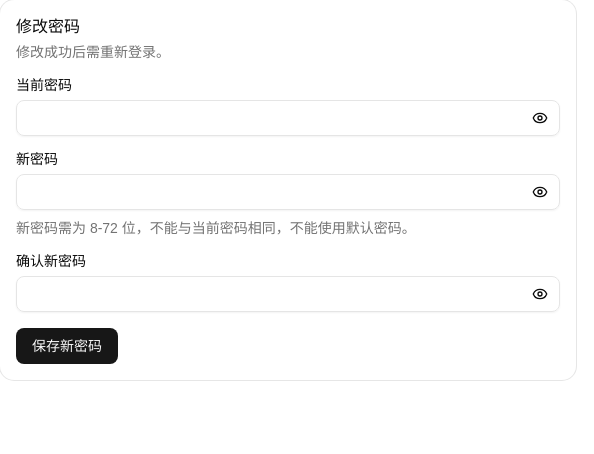
Scenario: teacher PasswordChangeForm › does not POST on empty submit
Step 1. Click the button "保存新密码" → (67, 346), box [16, 328, 118, 364]
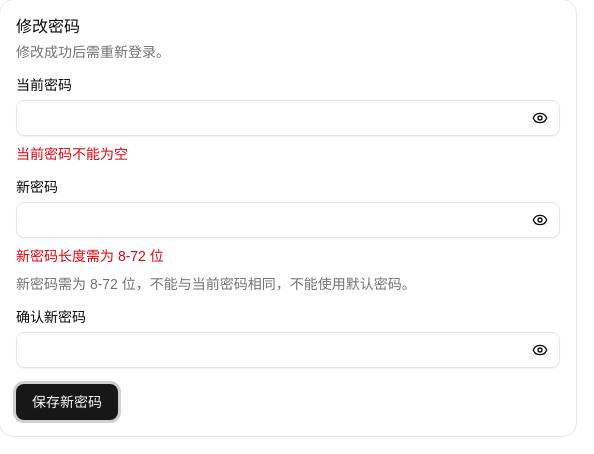
Check: the text "当前密码不能为空" is shown, box [16, 146, 128, 162]
Check: the text "新密码长度需为 8-72 位" is shown, box [16, 248, 164, 264]
